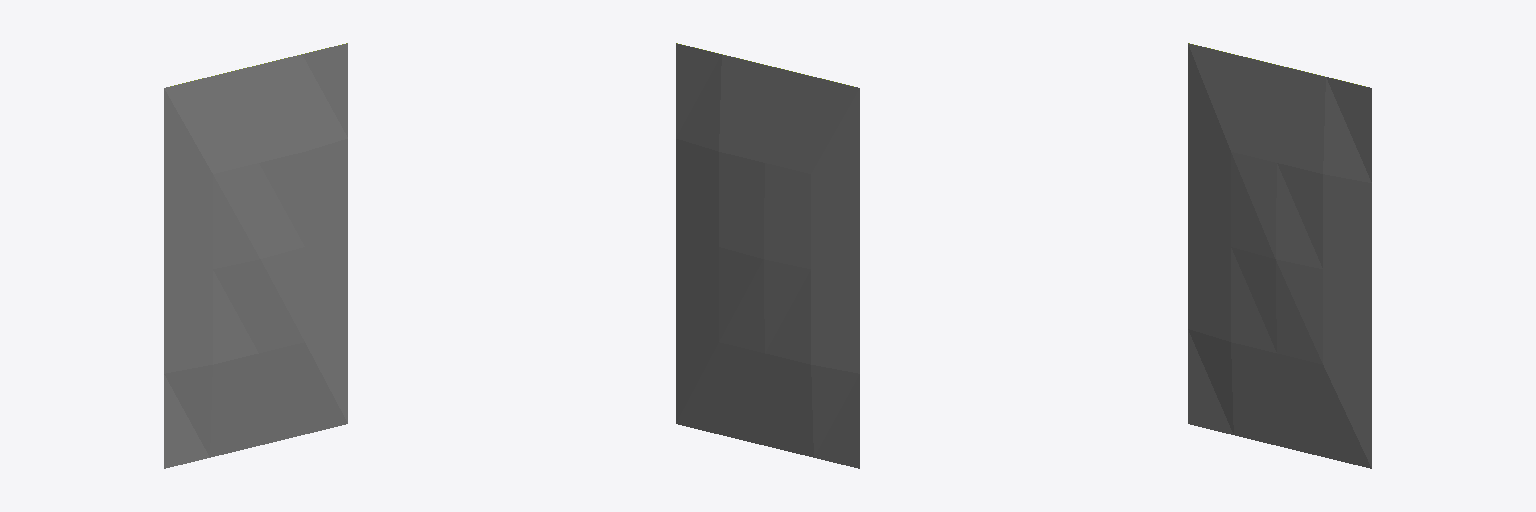
Rendered from apositogasa.obj.
3 views of the same model, side by side, from view 1: azimuth 30°, elevation 25°; view 2: azimuth 150°, elevation 25°; view 3: azimuth 330°, elevation 25° (orthographic).
Parts seen in each view (by area): view 1: B002; view 2: B002; view 3: B002.
Part boxes in pixels (bbox=[...]): B002: bbox=[164, 43, 347, 468]; B002: bbox=[676, 43, 859, 468]; B002: bbox=[1188, 43, 1371, 468].
Size of the model in its own units: 0.4686 by 0.9262 by 0.0394.